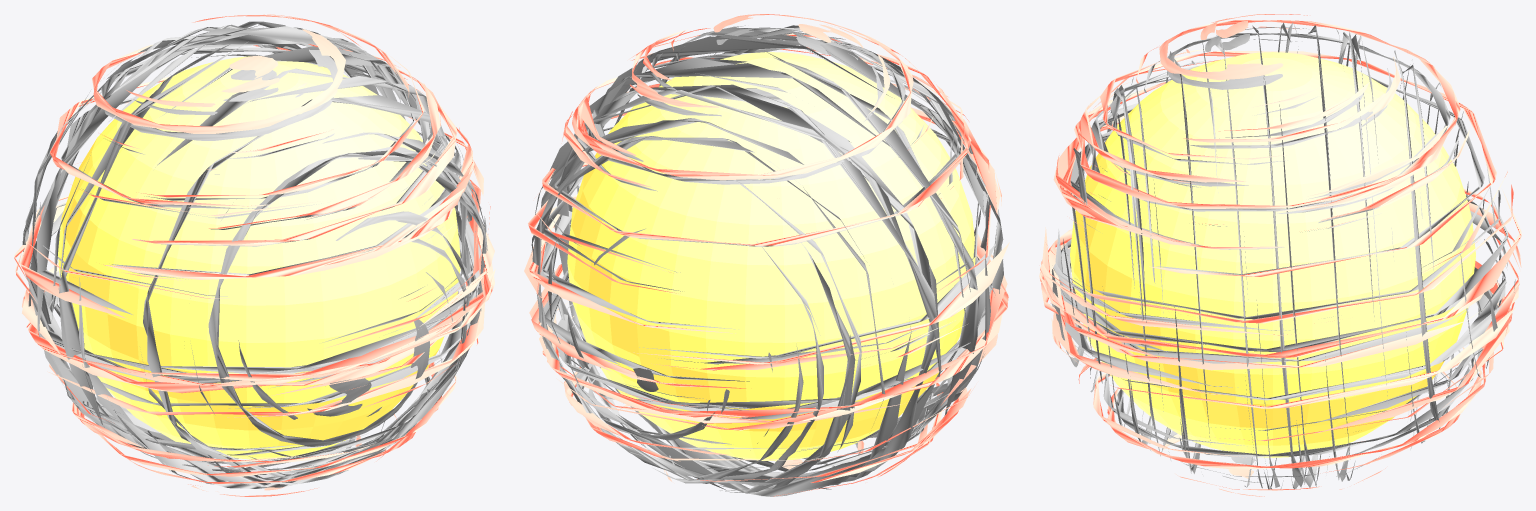
The model's file is Orange.fbx.
3 renders of one model, left to right at view 1: azimuth 30°, elevation 25°; view 2: azimuth 150°, elevation 25°; view 3: azimuth 270°, elevation 25°, orthographic.
Visible parts, largest first — view 1: Orange; view 2: Orange; view 3: Orange.
Part boxes in pixels (x1,y1,x2,y2): Orange: (14, 14, 495, 496); Orange: (524, 14, 1009, 496); Orange: (1039, 14, 1521, 496).
Size of the model in its own units: 332 by 329 by 331.
